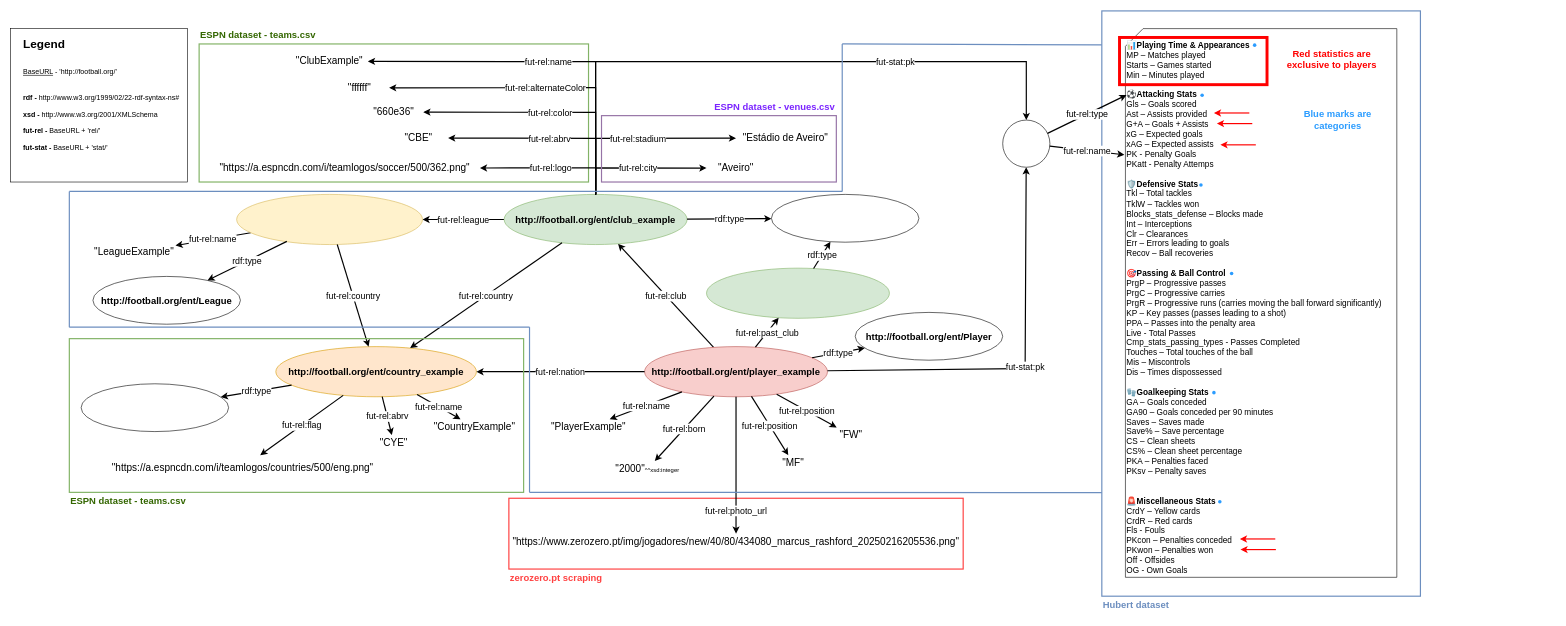
This 1566x626 diagram has some shape labels left out. Each missing label, with the box of its shape:
http://football.org/ent/Club: (771, 194, 919, 242)
http://football.org/ent/Country: (81, 383, 229, 432)
http://football.org/ent/league_example: (236, 194, 422, 245)
http://football.org/ent/other_club: (706, 268, 889, 318)
